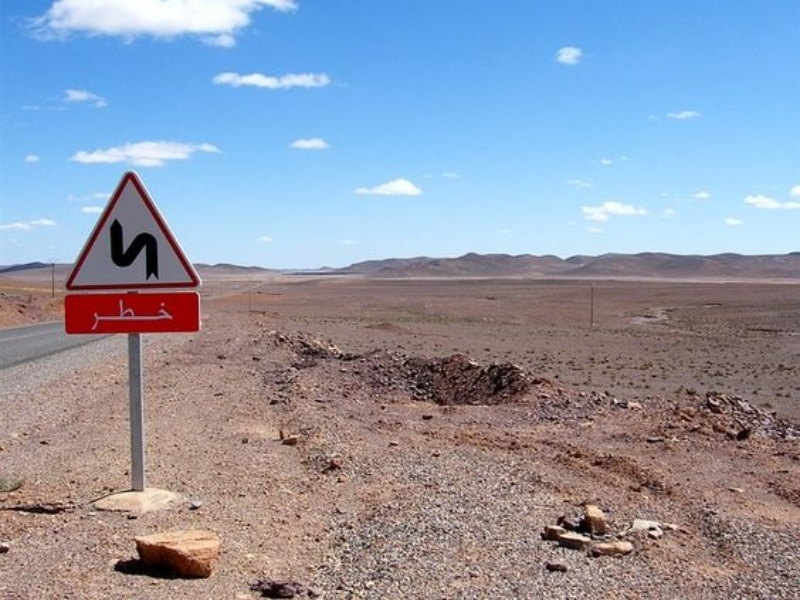text: (97, 300, 112, 331), (113, 300, 128, 331), (129, 300, 144, 331), (145, 300, 160, 331), (161, 300, 174, 331), (93, 300, 96, 331)
